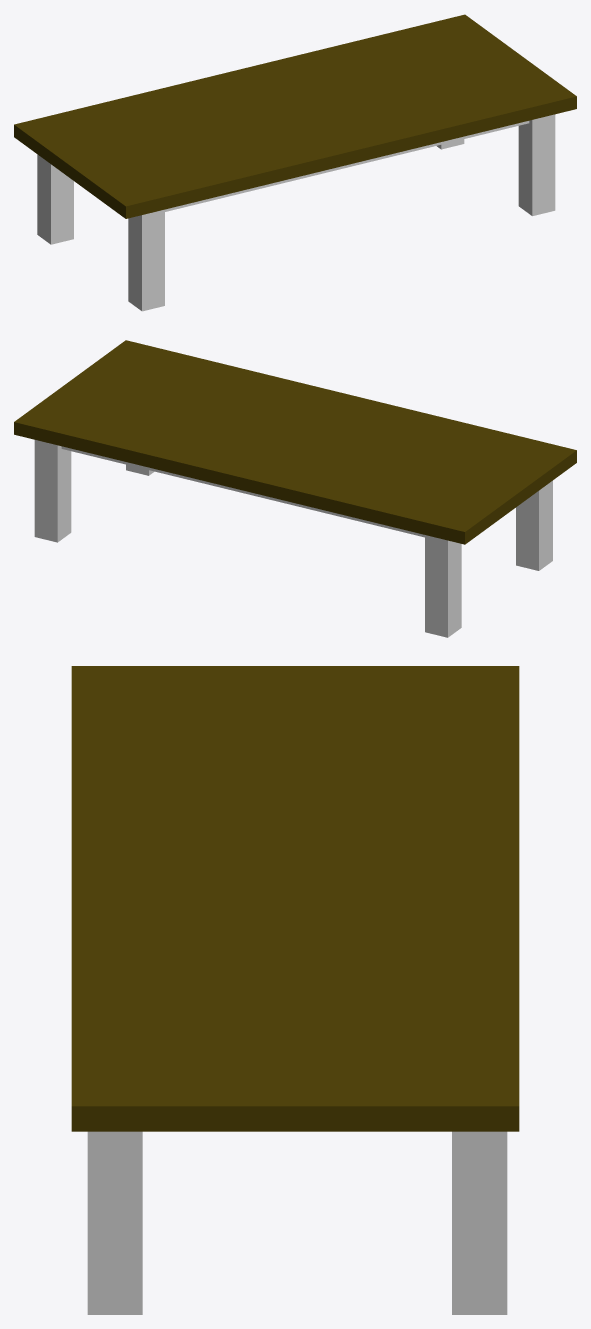
The model's file is Table.fbx.
The picture shows the model from 3 angles, top to bottom: view 1: azimuth 30°, elevation 25°; view 2: azimuth 150°, elevation 25°; view 3: azimuth 270°, elevation 25°; orthographic projection. The views are drawn at different scales.
Parts seen in each view (by area): view 1: Top, Leg3, Leg2, Leg4, Skirt; view 2: Top, Leg1, Leg4, Leg2, Skirt; view 3: Top, Leg1, Leg3.
Boxes of the visible parts, x1,y1,x2,y2 form: Top: (14,14,576,218); Leg3: (518,114,555,216); Leg2: (128,209,164,311); Leg4: (37,154,73,244); Skirt: (165,121,529,211); Top: (14,340,576,544); Leg1: (34,440,71,542); Leg4: (425,535,461,637); Leg2: (516,480,552,570); Skirt: (61,446,424,537); Top: (71,666,519,1131); Leg1: (452,1131,507,1314); Leg3: (87,1131,142,1314).
Bounding box in the file's own units: 2.93 × 0.7001 × 1.26.
